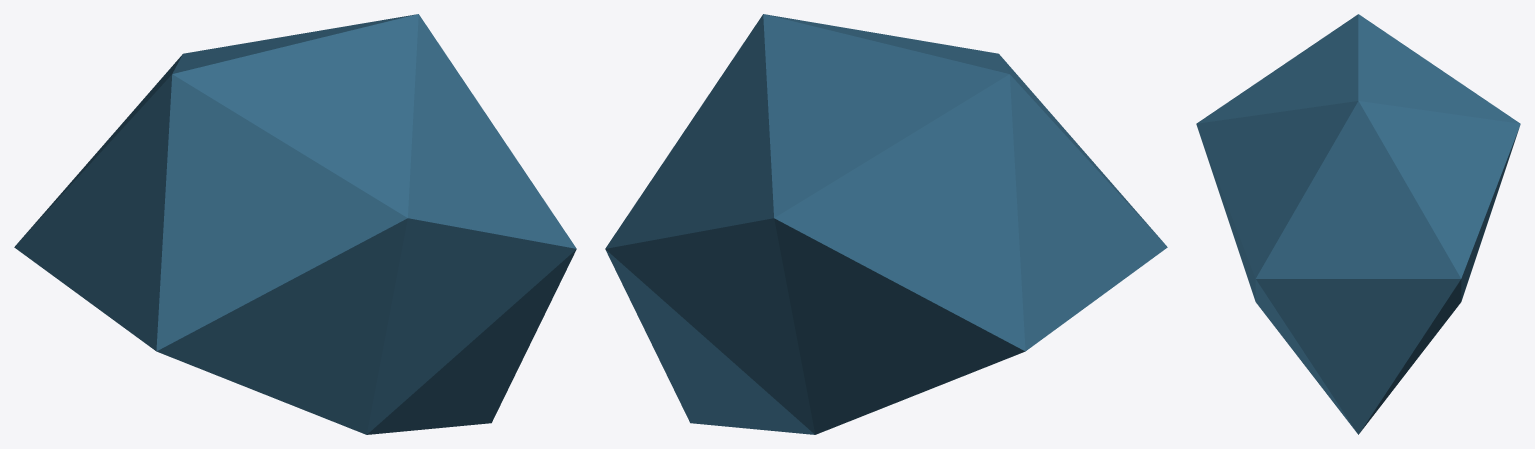
The model's file is J87.EsfenocoronaAumentada.gltf.
3 renders of one model, left to right at view 1: azimuth 30°, elevation 25°; view 2: azimuth 150°, elevation 25°; view 3: azimuth 270°, elevation 25°, orthographic. The views are drawn at different scales.
Visible parts, largest first — view 1: J87.EsfenocoronaAumentada; view 2: J87.EsfenocoronaAumentada; view 3: J87.EsfenocoronaAumentada.
Part boxes in pixels (bbox=[...]): J87.EsfenocoronaAumentada: bbox=[14, 14, 576, 434]; J87.EsfenocoronaAumentada: bbox=[605, 14, 1167, 434]; J87.EsfenocoronaAumentada: bbox=[1196, 14, 1520, 434].
Size of the model in its own units: 13.28 by 12.88 by 12.29.
